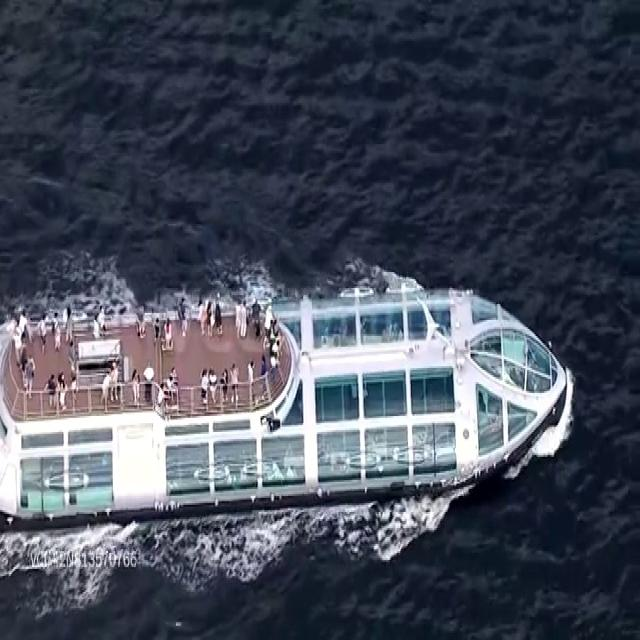passenger ship: (0, 262, 565, 518)
